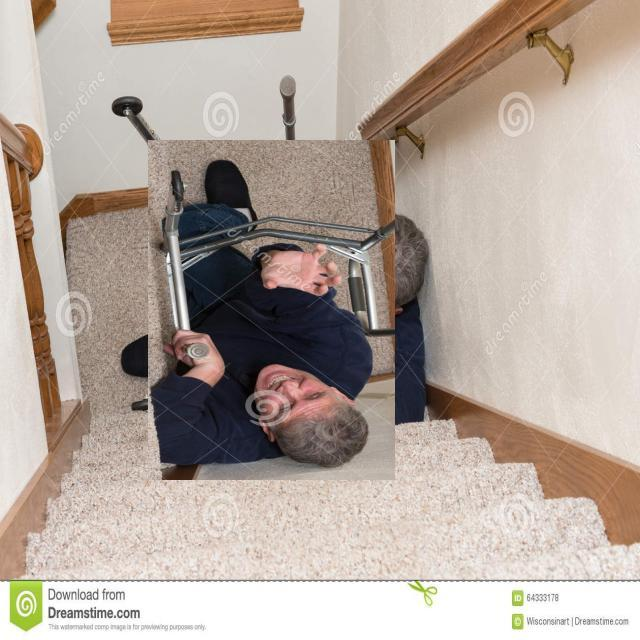Fall: (150, 136, 391, 474)
